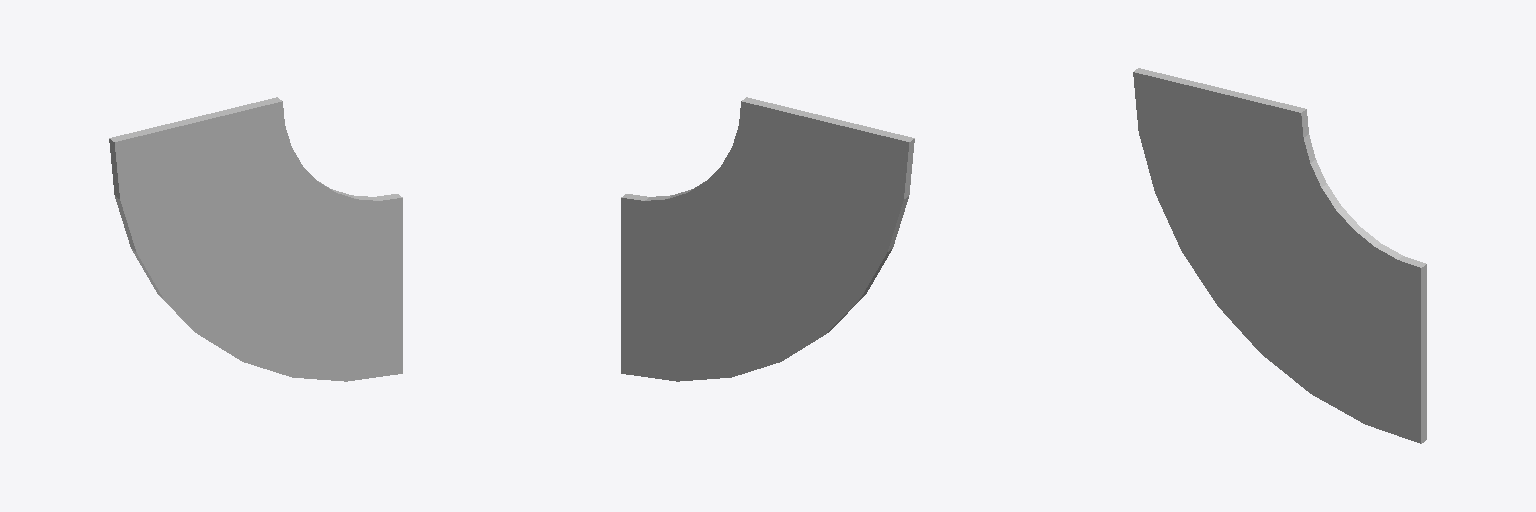
The model's file is turn_left_road.obj.
The picture shows the model from 3 angles: view 1: azimuth 30°, elevation 25°; view 2: azimuth 150°, elevation 25°; view 3: azimuth 330°, elevation 25°; orthographic projection.
Parts seen in each view (by area): view 1: Cylinder.002_Cylinder.003; view 2: Cylinder.002_Cylinder.003; view 3: Cylinder.002_Cylinder.003.
Boxes of the visible parts, box(x1,y1,x2,y2) form: Cylinder.002_Cylinder.003: box(109, 97, 402, 381); Cylinder.002_Cylinder.003: box(621, 97, 914, 381); Cylinder.002_Cylinder.003: box(1133, 68, 1426, 443).
Size of the model in its own units: 12 by 12 by 0.4.